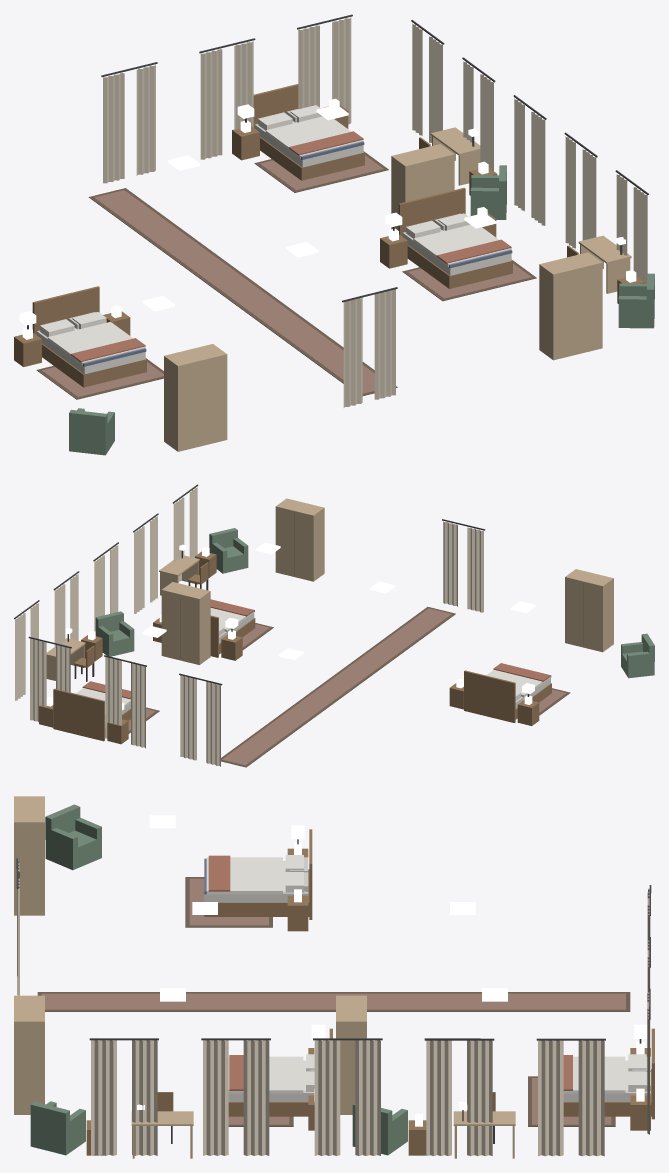
The model's file is fine-s1.glb.
3 renders of one model, top to bottom at view 1: azimuth 30°, elevation 25°; view 2: azimuth 150°, elevation 25°; view 3: azimuth 270°, elevation 25°, orthographic. The views are drawn at different scales.
Visible parts, largest first — view 1: soft-s1, dresser.000, dresser.002, bed-frame.002, bed-frame.000, bed-frame.001, dresser.001, lounge-chair.000, lounge-chair.002, lounge-chair.001, writing-desk.001, writing-desk.000 (+3 smaller); view 2: soft-s1, dresser.001, dresser.002, dresser.000, bed-frame.000, bed-frame.001, lounge-chair.002, lounge-chair.001, lounge-chair.000, writing-desk.001, bed-frame.002, writing-desk.000 (+3 smaller); view 3: soft-s1, dresser.000, dresser.002, lounge-chair.000, dresser.001, bed-frame.000, lounge-chair.002, bed-frame.001, bed-frame.002, lounge-chair.001, writing-desk.000, writing-desk.001 (+3 smaller).
Boxes of the visible parts, left/top/right/bottom form: soft-s1: left=19, top=14, right=648, bottom=407; dresser.000: left=164, top=344, right=227, bottom=451; dresser.002: left=539, top=252, right=602, bottom=360; bed-frame.002: left=398, top=188, right=512, bottom=288; bed-frame.000: left=32, top=286, right=146, bottom=387; bed-frame.001: left=253, top=84, right=364, bottom=180; dresser.001: left=391, top=144, right=454, bottom=230; lounge-chair.000: left=69, top=408, right=114, bottom=455; lounge-chair.002: left=618, top=273, right=654, bottom=328; lounge-chair.001: left=470, top=165, right=506, bottom=219; writing-desk.001: left=578, top=235, right=631, bottom=293; writing-desk.000: left=430, top=127, right=480, bottom=185; soft-s1: left=14, top=484, right=570, bottom=767; dresser.001: left=161, top=582, right=210, bottom=664; dresser.002: left=275, top=498, right=324, bottom=581; dresser.000: left=565, top=569, right=613, bottom=652; bed-frame.000: left=464, top=670, right=551, bottom=722; bed-frame.001: left=53, top=688, right=130, bottom=741; lounge-chair.002: left=209, top=528, right=248, bottom=573; lounge-chair.001: left=95, top=611, right=134, bottom=656; lounge-chair.000: left=621, top=633, right=654, bottom=678; writing-desk.001: left=159, top=544, right=199, bottom=595; bed-frame.002: left=210, top=610, right=255, bottom=657; writing-desk.000: left=46, top=627, right=85, bottom=680; soft-s1: left=16, top=825, right=651, bottom=1156; dresser.000: left=14, top=796, right=44, bottom=915; dresser.002: left=14, top=995, right=44, bottom=1114; lounge-chair.000: left=45, top=804, right=101, bottom=870; dresser.001: left=336, top=995, right=366, bottom=1114; bed-frame.000: left=204, top=829, right=312, bottom=919; lounge-chair.002: left=30, top=1101, right=85, bottom=1155; bed-frame.001: left=563, top=1028, right=654, bottom=1119; bed-frame.002: left=228, top=1028, right=332, bottom=1116; lounge-chair.001: left=352, top=1103, right=407, bottom=1155; writing-desk.000: left=453, top=1102, right=515, bottom=1158; writing-desk.001: left=131, top=1104, right=193, bottom=1158.
Size of the model in its own units: 14.37 by 2.56 by 12.44.
